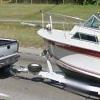Boat: (34, 8, 100, 89)
